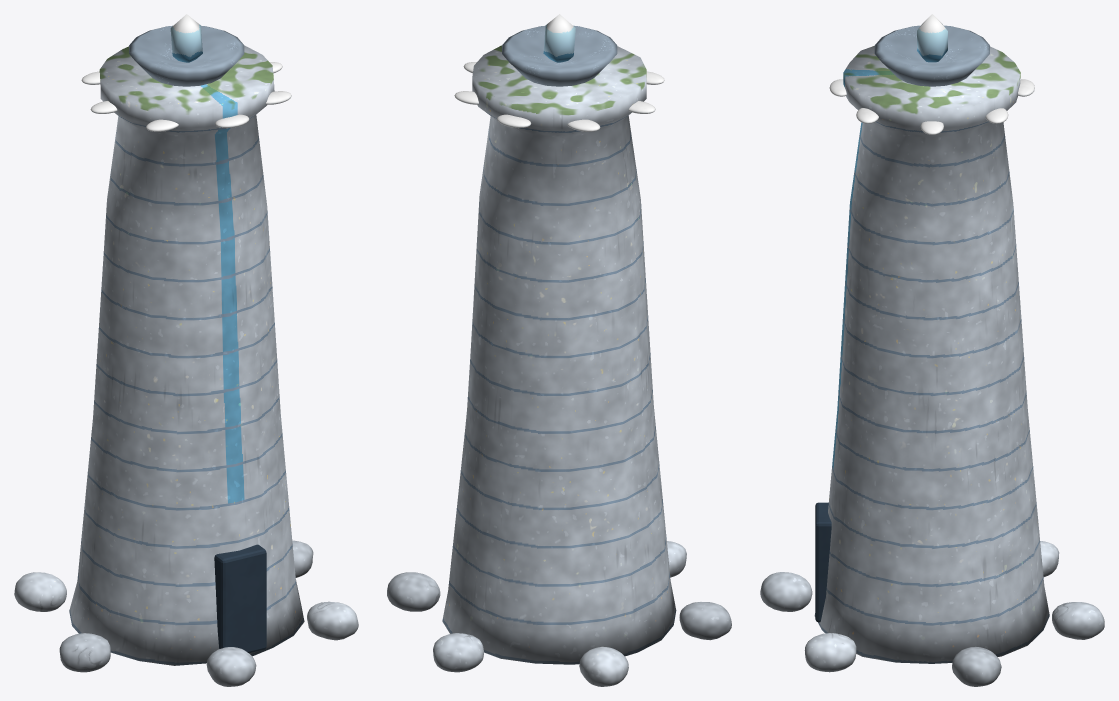
Rendered from ice_tower.glb.
The picture shows the model from 3 angles, left to right: view 1: azimuth 30°, elevation 25°; view 2: azimuth 150°, elevation 25°; view 3: azimuth 270°, elevation 25°; orthographic projection.
Parts seen in each view (by area): view 1: ColdHeart, bw, hr; view 2: ColdHeart, bw, hr; view 3: ColdHeart, bw, hr.
Part boxes in pixels (left/top/right/bottom): ColdHeart: left=14, top=45, right=358, bottom=686; bw: left=129, top=25, right=244, bottom=86; hr: left=170, top=14, right=202, bottom=62; ColdHeart: left=387, top=45, right=731, bottom=686; bw: left=502, top=25, right=617, bottom=86; hr: left=543, top=14, right=575, bottom=62; ColdHeart: left=760, top=46, right=1104, bottom=686; bw: left=874, top=25, right=989, bottom=86; hr: left=917, top=14, right=947, bottom=62.
Bounding box in the file's own units: 5.23 × 10.33 × 5.3.
1 material, 1 textured.
